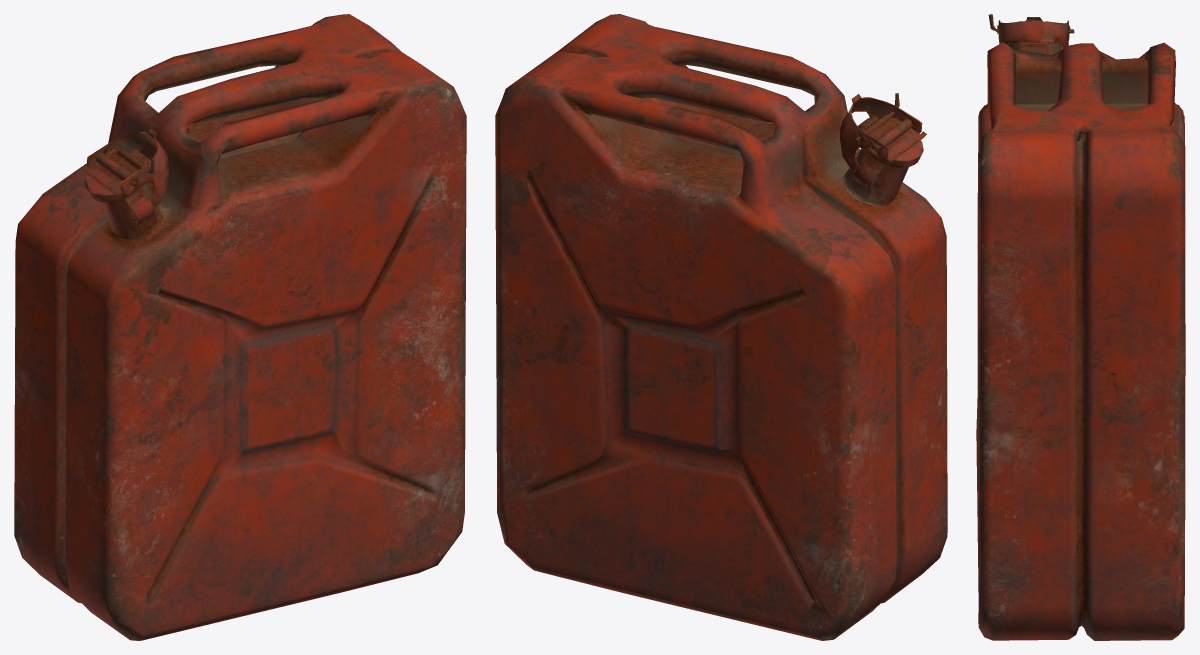
Rendered from jerry.glb.
3 renders of one model, left to right at view 1: azimuth 30°, elevation 25°; view 2: azimuth 150°, elevation 25°; view 3: azimuth 270°, elevation 25°, orthographic. The views are drawn at different scales.
Parts seen in each view (by area): view 1: jerry; view 2: jerry; view 3: jerry.
Part boxes in pixels (x1=…): jerry: x1=14, y1=14, x2=466, y2=640; jerry: x1=495, y1=14, x2=947, y2=640; jerry: x1=976, y1=14, x2=1185, y2=640.
Size of the model in its own units: 0.3507 by 0.4556 by 0.1718.
1 material, 1 textured.
